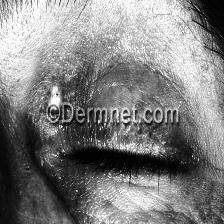Benign Marking or Mole: (48, 87, 63, 113)
